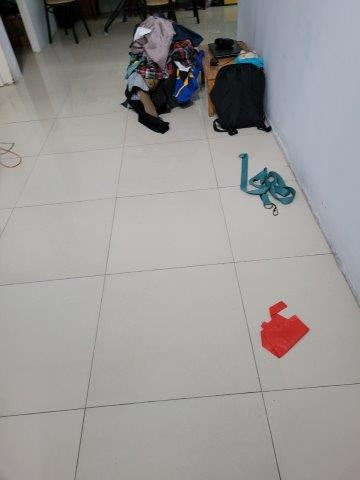plastik: (255, 300, 310, 361)
